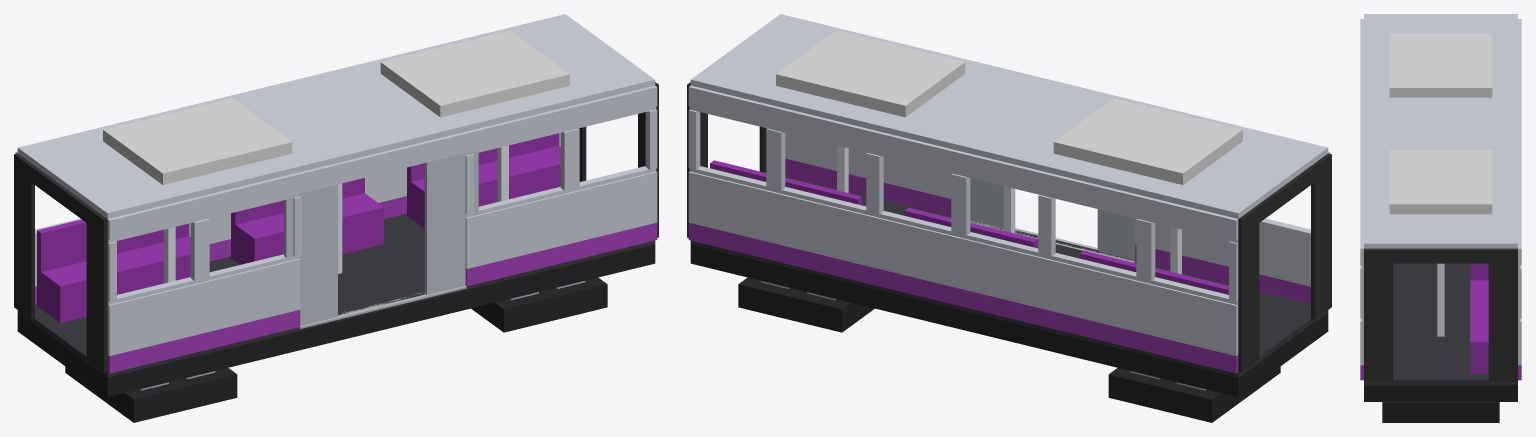
Rendered from metro_wagon_half_l5.obj.
3 renders of one model, left to right at view 1: azimuth 30°, elevation 25°; view 2: azimuth 150°, elevation 25°; view 3: azimuth 270°, elevation 25°, orthographic. The views are drawn at different scales.
Bounding box in the file's own units: 3 × 1.26 × 0.88.
